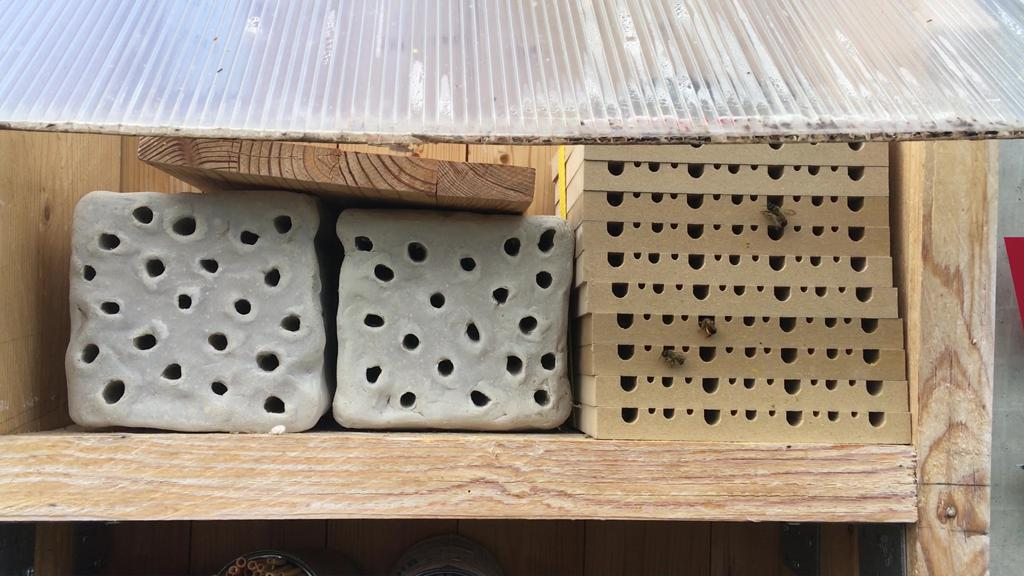bee: (692, 310, 725, 341)
